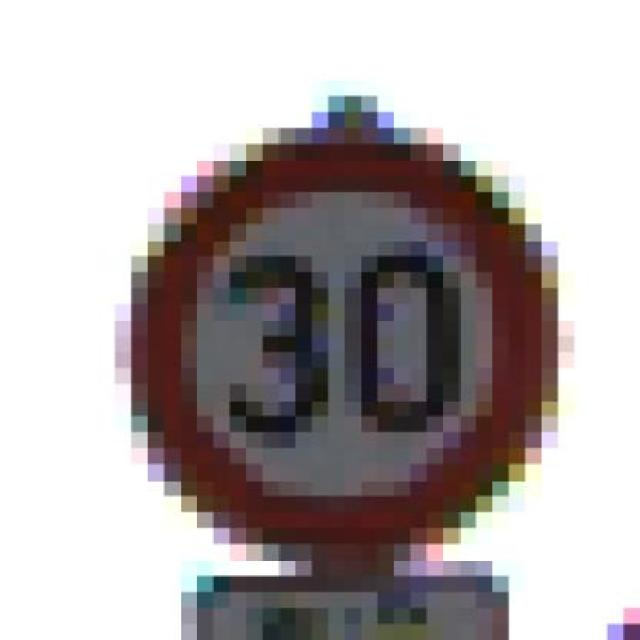Speed Limit 30 KMPh: (66, 79, 592, 576)
